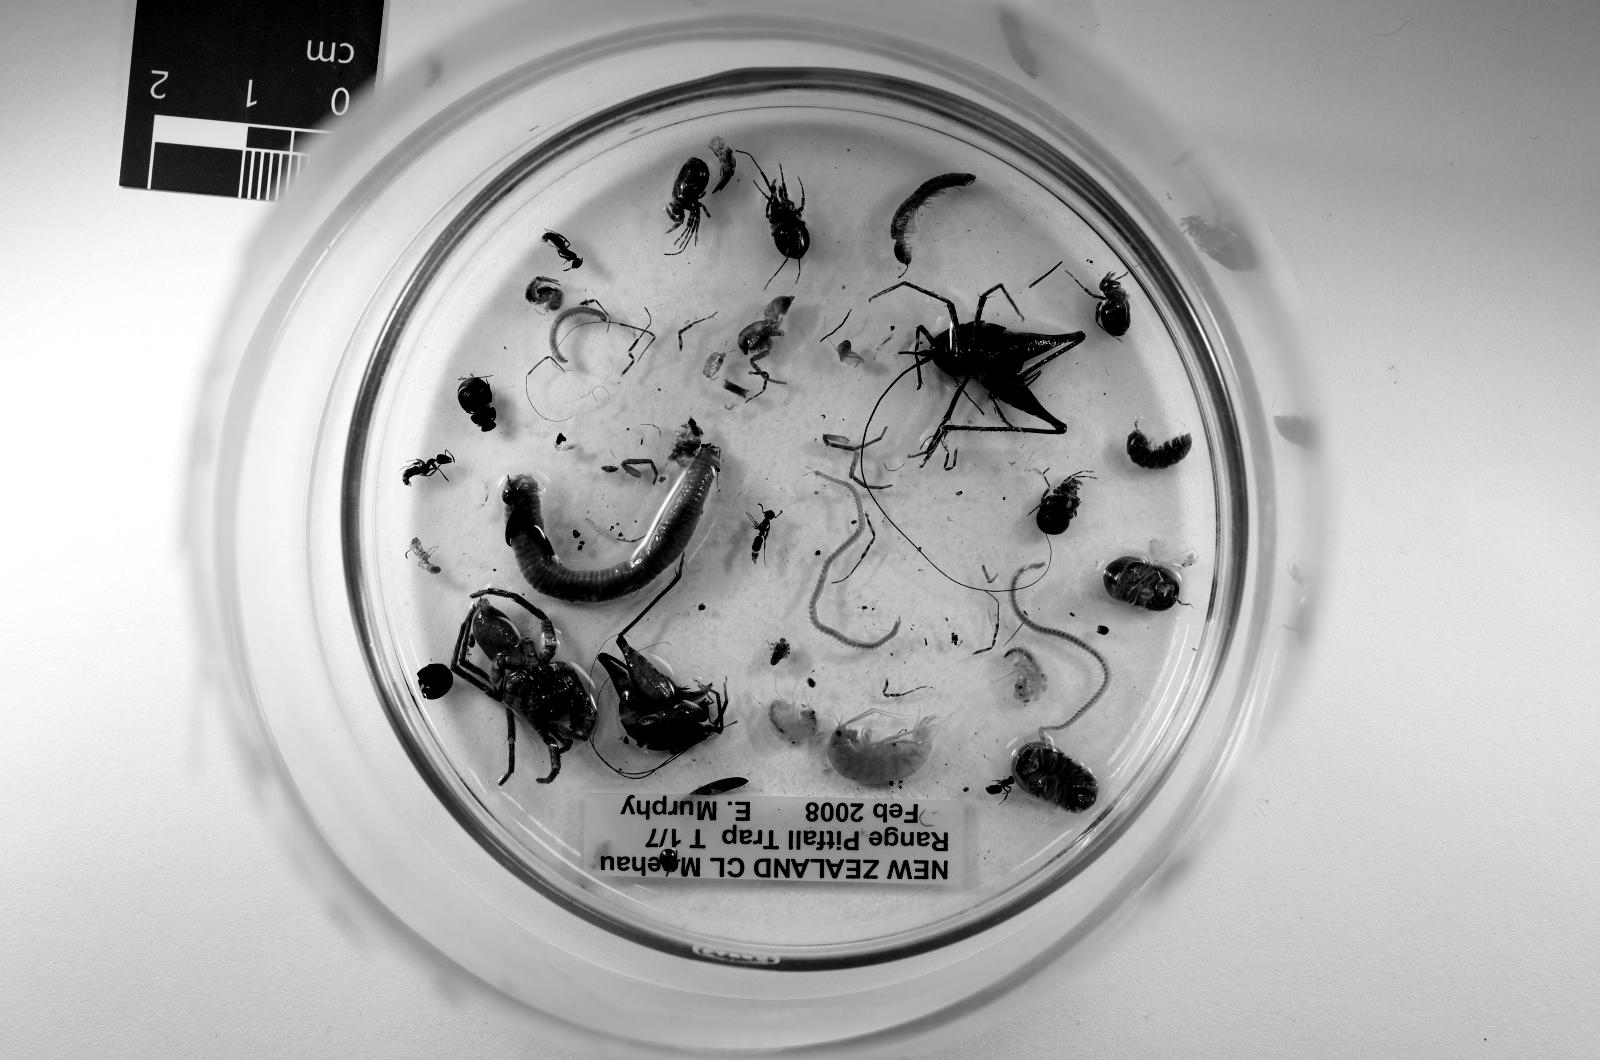amphipoda: (828, 717, 941, 786), (1003, 649, 1047, 705), (769, 699, 819, 742)
annelida: (503, 444, 719, 602)
araneae: (450, 590, 597, 783)
chilopoda: (1009, 562, 1109, 733), (809, 469, 900, 649)
coleoptera: (459, 376, 497, 432)
diplopoda: (891, 174, 975, 273), (547, 304, 609, 366)
formicidae: (541, 230, 584, 270), (750, 509, 781, 562), (403, 453, 453, 484), (409, 537, 441, 575), (988, 776, 1016, 798)
isopoda: (1012, 742, 1100, 814), (1103, 556, 1178, 612), (1128, 422, 1191, 469)
opiliones: (762, 171, 809, 279), (666, 158, 709, 252), (1081, 273, 1131, 338), (1038, 472, 1081, 534)
orthoptera: (881, 283, 1084, 463), (597, 556, 728, 755)
